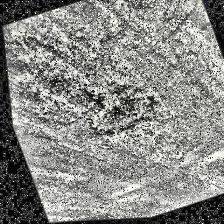pothole: (71, 68, 163, 144)
